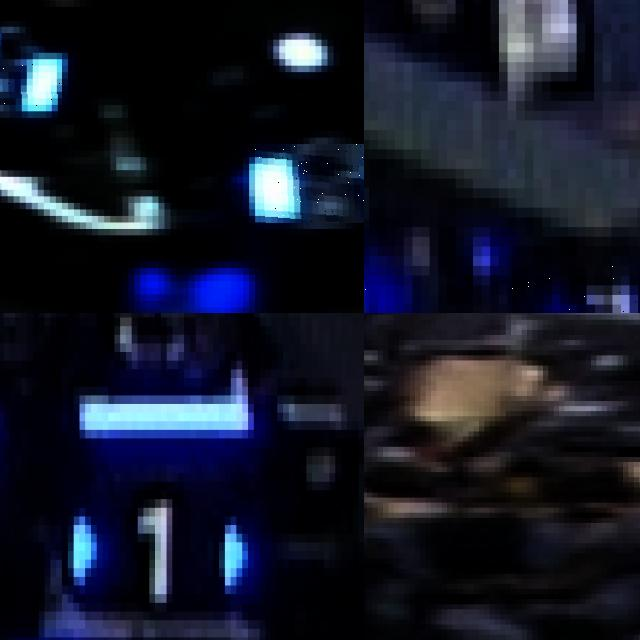B1: (62, 473, 248, 620)
B3: (512, 246, 640, 313)
Bs: (255, 144, 364, 222), (0, 26, 61, 117)
